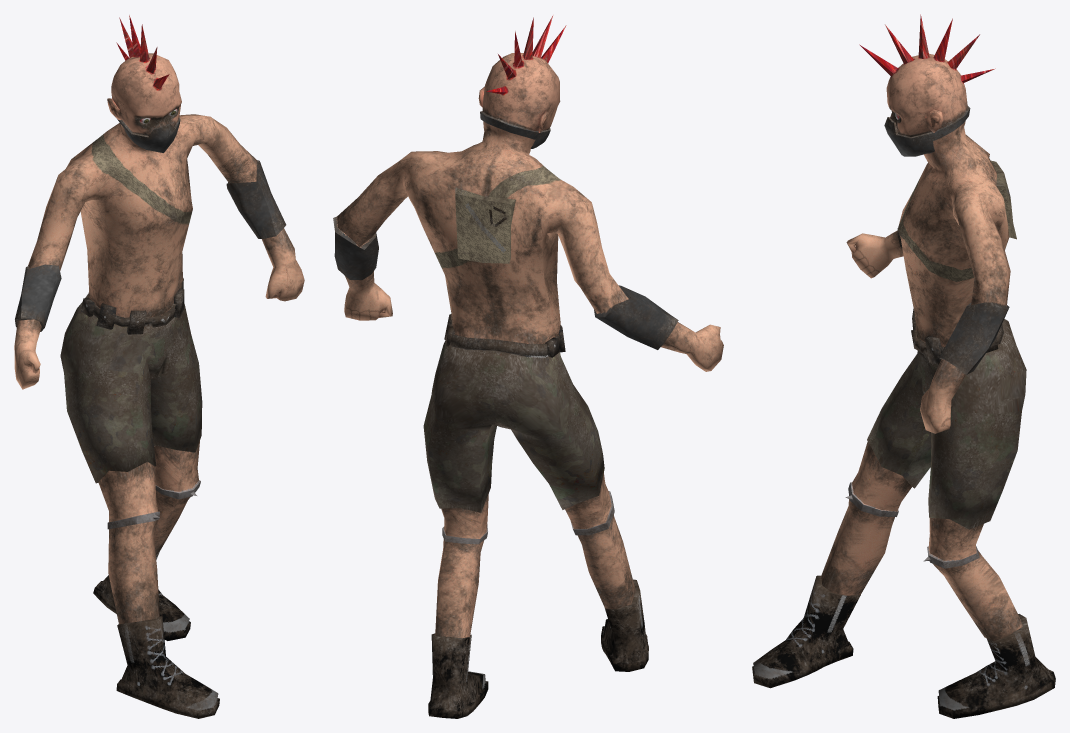
The model's file is Anim_interruptor_npc2.0021.obj.
3 renders of one model, left to right at view 1: azimuth 30°, elevation 25°; view 2: azimuth 150°, elevation 25°; view 3: azimuth 270°, elevation 25°, orthographic. The views are drawn at different scales.
Parts seen in each view (by area): view 1: polySurface1; view 2: polySurface1; view 3: polySurface1.
Part boxes in pixels (x1,y1,x2,y2): polySurface1: (14,15,304,718); polySurface1: (333,15,723,718); polySurface1: (752,14,1055,718).
Size of the model in its own units: 5.17 by 9.91 by 4.06.
2 materials, 2 textured.
